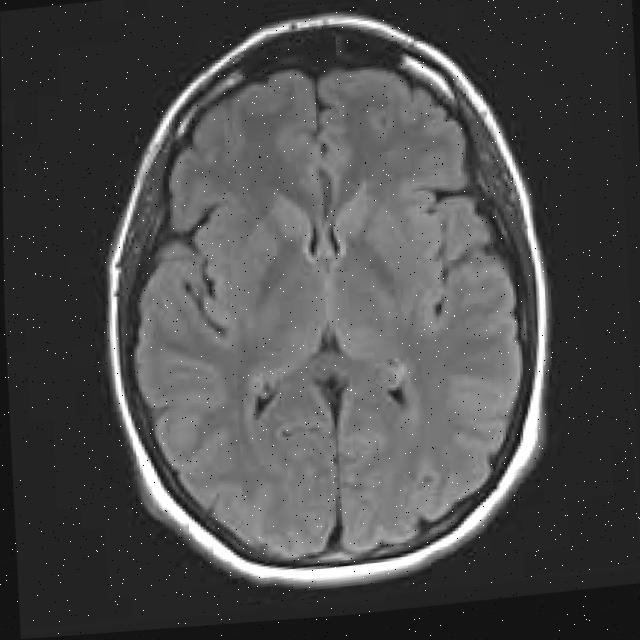NoTumor: (91, 0, 561, 612)
